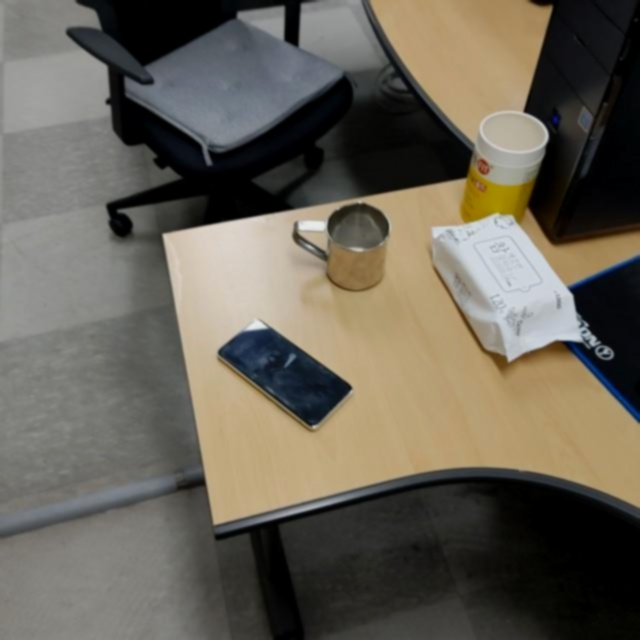cup: (292, 197, 393, 293)
phone: (215, 317, 357, 434)
